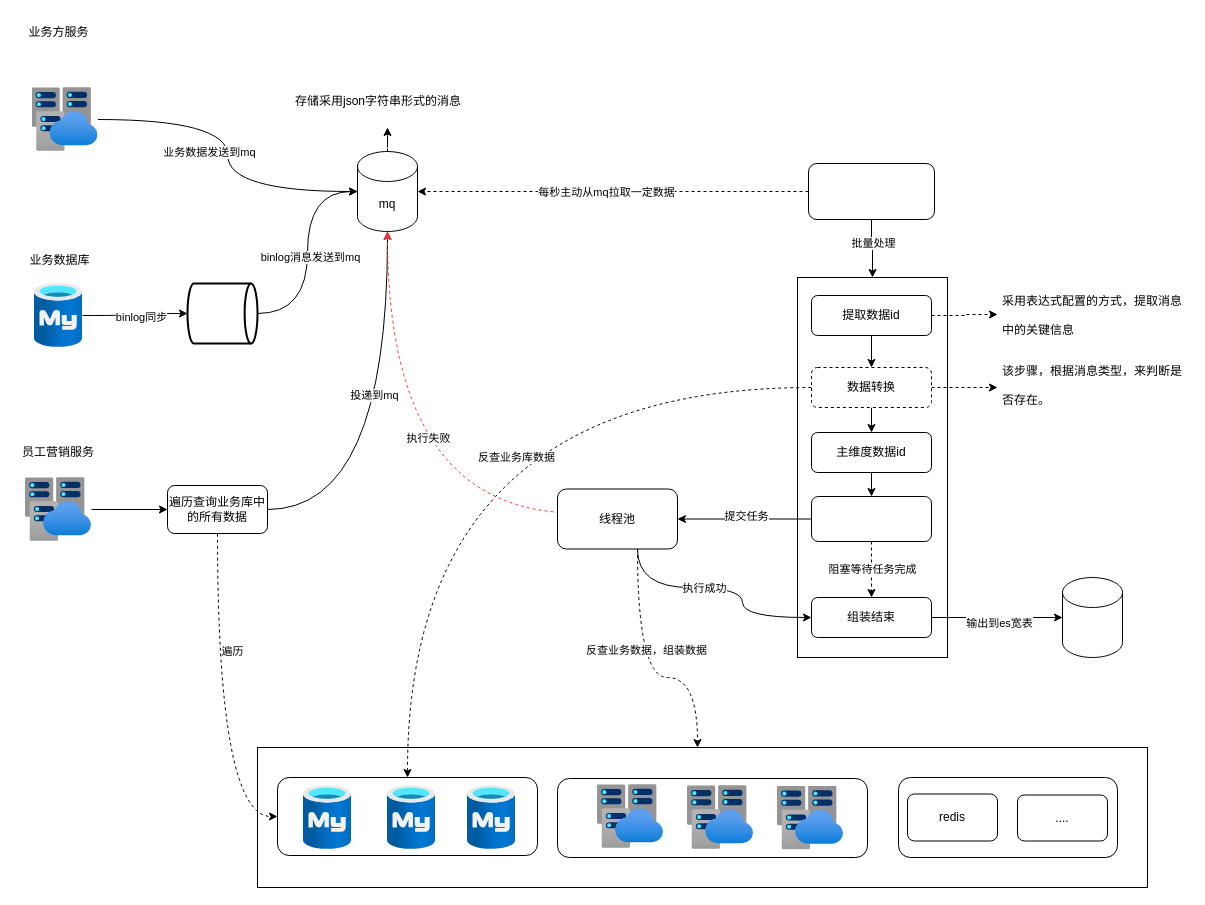
Some shapes in this 1205 by 905 pixel diagram are drawn without their labels. The centre of each missing label's shape, as x and y in pixels:
canle: point (222, 313)
es: point (1092, 617)
员工营销系统: point (871, 191)
拆分任务 并发组装: point (871, 519)
